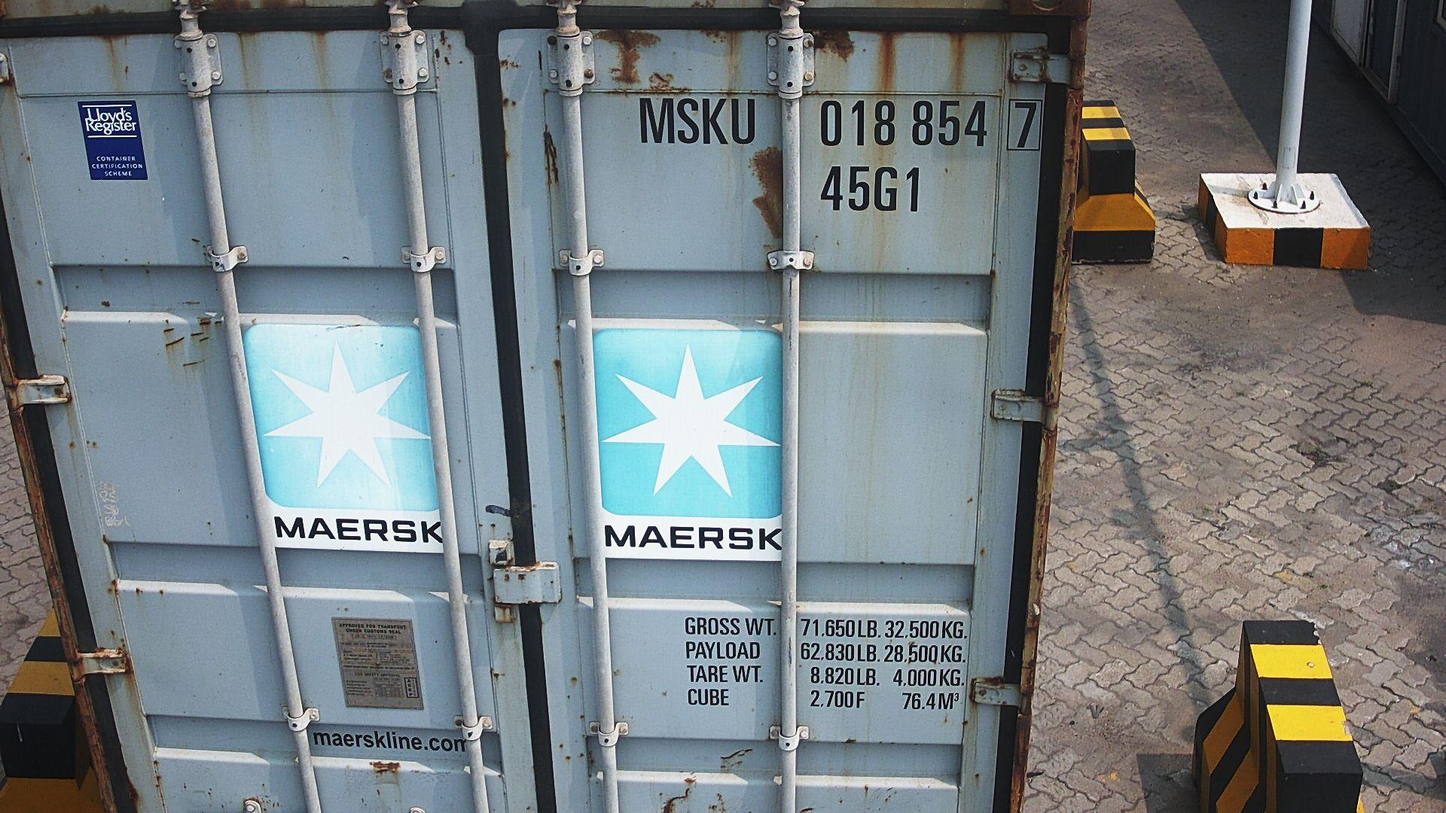container-numbers: (633, 93, 1049, 155), (816, 163, 928, 215)
